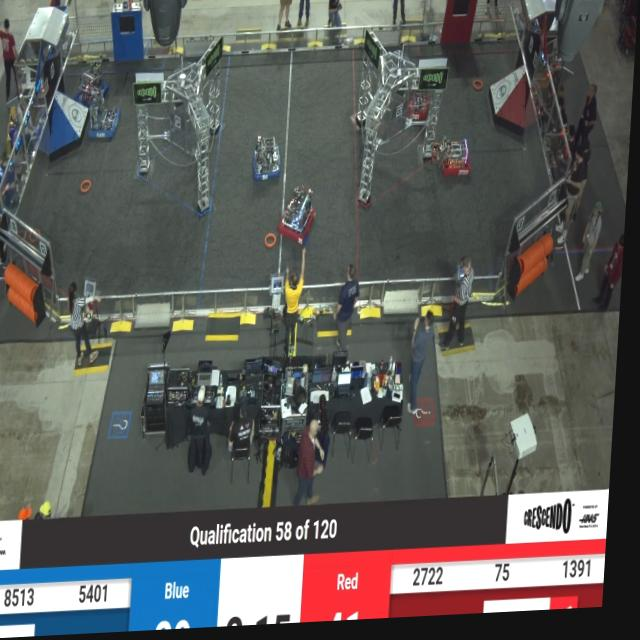Robot: (279, 186, 322, 247), (86, 86, 124, 143), (436, 135, 477, 186), (73, 63, 112, 110), (408, 70, 437, 131), (254, 133, 286, 188)
